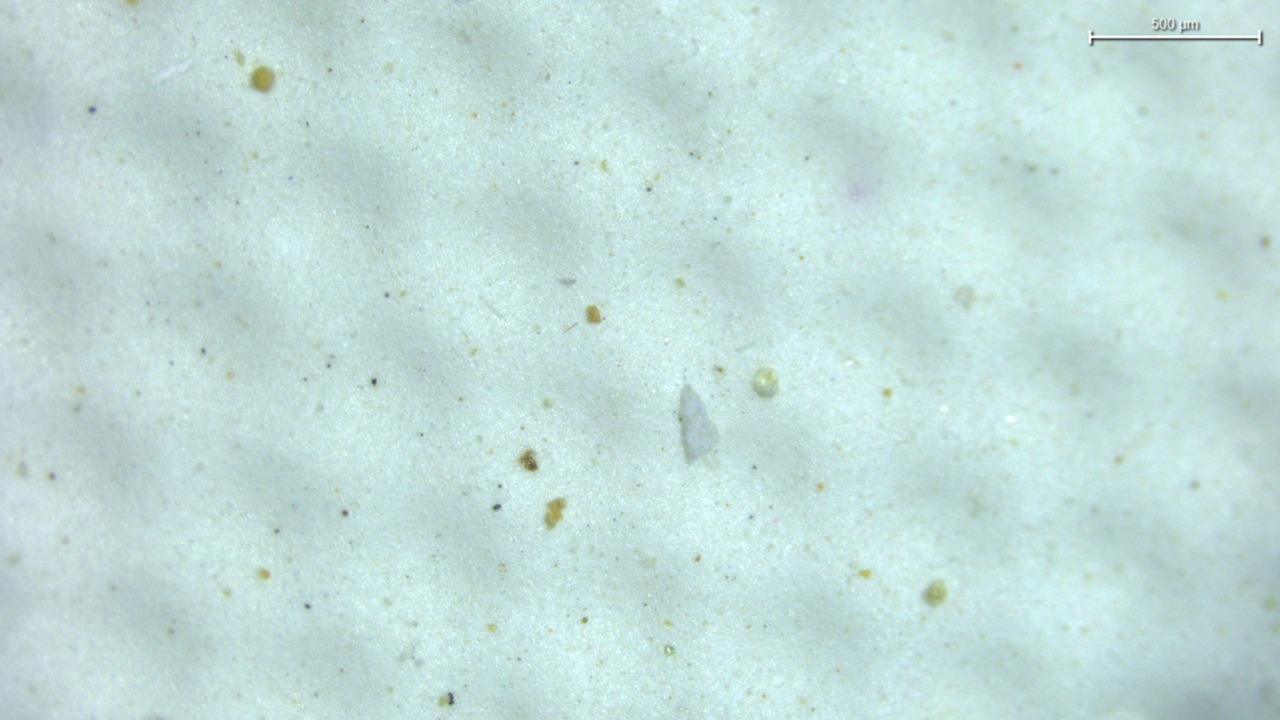microplastic_fragment: (678, 384, 719, 461)
